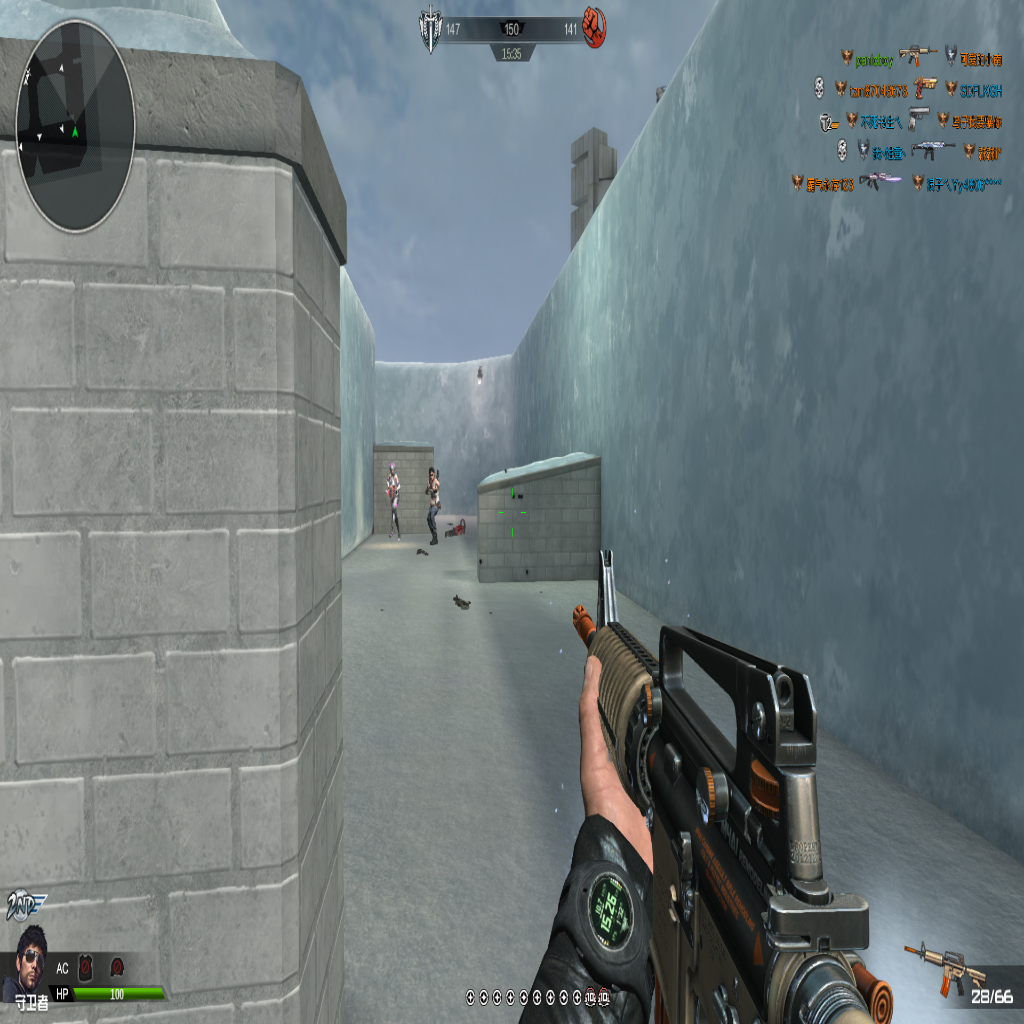tt: (426, 466, 441, 546), (387, 461, 401, 540)
